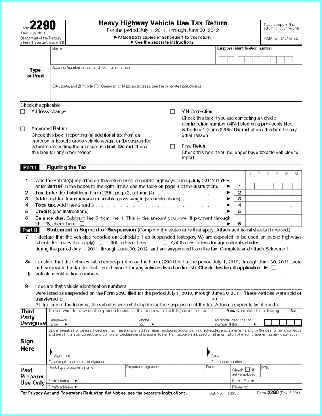checkbox: (270, 263, 278, 271), (18, 125, 27, 132), (168, 143, 177, 150), (243, 365, 252, 372), (97, 239, 106, 246), (19, 108, 27, 115), (169, 108, 177, 115), (217, 307, 225, 314), (281, 307, 289, 314), (161, 239, 169, 246), (78, 220, 86, 227)
textbox: (49, 61, 303, 85), (48, 80, 303, 103), (49, 44, 217, 67), (79, 375, 232, 385), (79, 381, 232, 391), (124, 363, 206, 378), (46, 363, 127, 378), (244, 174, 303, 191), (244, 213, 303, 227), (259, 363, 304, 379), (244, 187, 304, 197), (244, 193, 303, 203), (244, 199, 303, 209), (244, 206, 303, 216), (249, 381, 305, 391), (254, 375, 305, 385), (202, 363, 233, 379), (262, 318, 303, 327)
textline: (52, 341, 206, 354), (101, 270, 303, 279), (126, 281, 305, 291), (48, 357, 211, 366), (211, 341, 304, 353), (53, 352, 210, 359), (63, 296, 211, 303), (64, 317, 138, 328), (150, 317, 214, 329), (210, 352, 306, 359), (210, 358, 306, 365), (259, 296, 301, 303), (216, 296, 256, 303)
